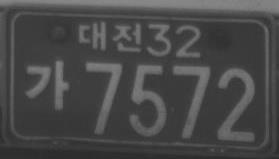2: (215, 65, 256, 144), (173, 22, 202, 59)
3: (145, 21, 172, 58)
5: (126, 62, 169, 138)
7: (170, 63, 211, 140), (84, 59, 124, 137)
가: (23, 58, 71, 111)
대전_O: (76, 20, 143, 53)
